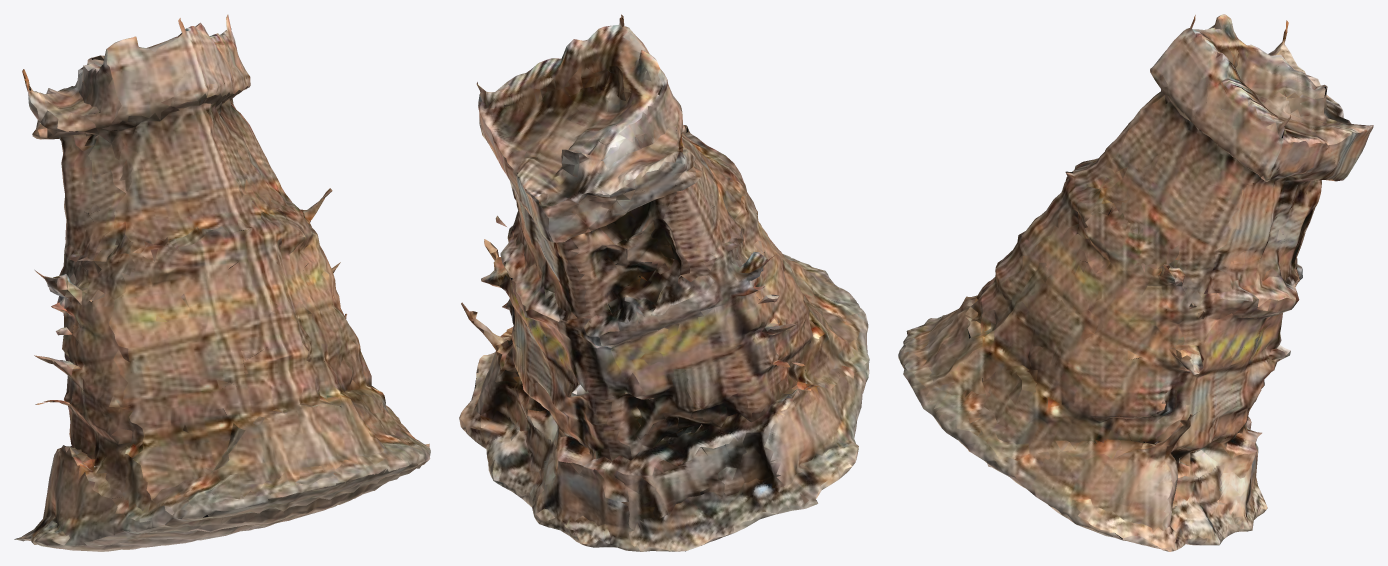
The model's file is vorash_scrap_wall_1792713343569.glb.
3 renders of one model, left to right at view 1: azimuth 30°, elevation 25°; view 2: azimuth 150°, elevation 25°; view 3: azimuth 270°, elevation 25°, orthographic. The views are drawn at different scales.
Visible parts, largest first — view 1: geometry_0; view 2: geometry_0; view 3: geometry_0.
Part boxes in pixels (x1,y1,x2,y2): geometry_0: (14, 14, 430, 551); geometry_0: (459, 14, 869, 551); geometry_0: (898, 14, 1373, 551).
Bounding box in the file's own units: 0.7119 × 0.9022 × 0.7857.
1 material, 1 textured.
